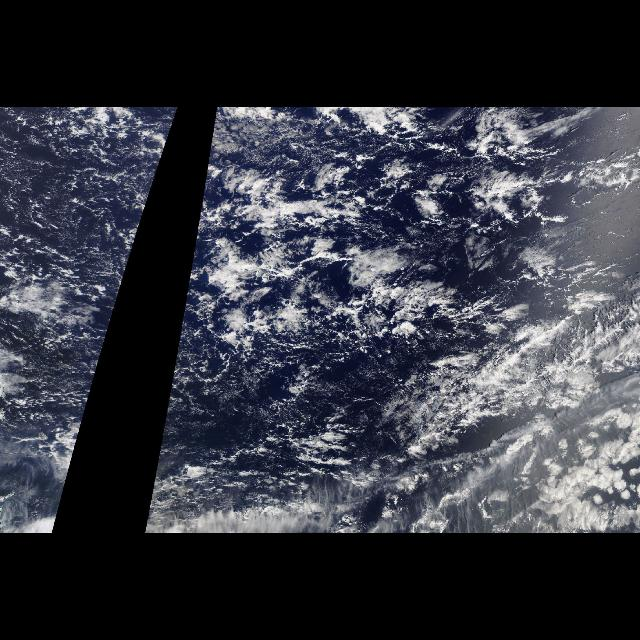Fish: (378, 290, 636, 472)
Gravel: (5, 120, 142, 282)
